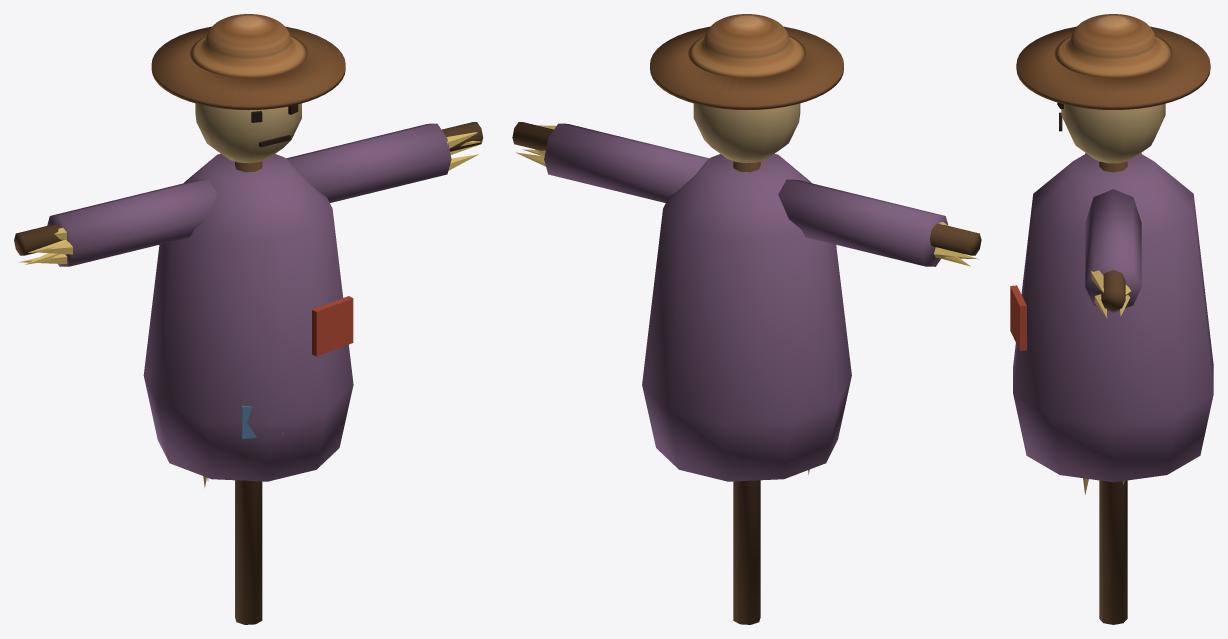
Rendered from vogelscheuche.glb.
3 views of the same model, side by side, from view 1: azimuth 30°, elevation 25°; view 2: azimuth 150°, elevation 25°; view 3: azimuth 270°, elevation 25° (orthographic).
Parts seen in each view (by area): view 1: Cone; view 2: Cone; view 3: Cone.
Boxes of the visible parts, <box> form: Cone: <box>14,14,483,624</box>; Cone: <box>512,14,981,624</box>; Cone: <box>1010,14,1213,624</box>.
Bounding box in the file's own units: 1.5 × 1.88 × 0.579.
